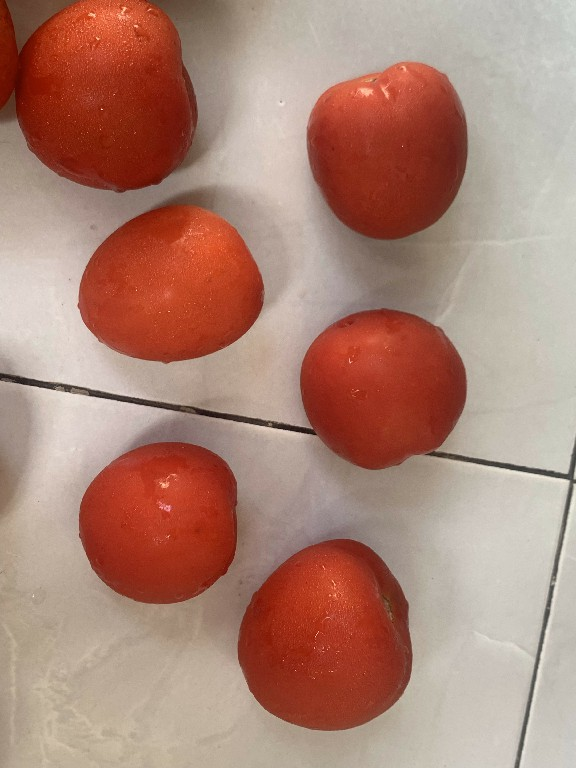OK: (241, 523, 417, 754), (57, 425, 236, 629), (293, 50, 475, 249), (22, 0, 212, 190), (68, 193, 268, 372), (293, 301, 465, 483)
